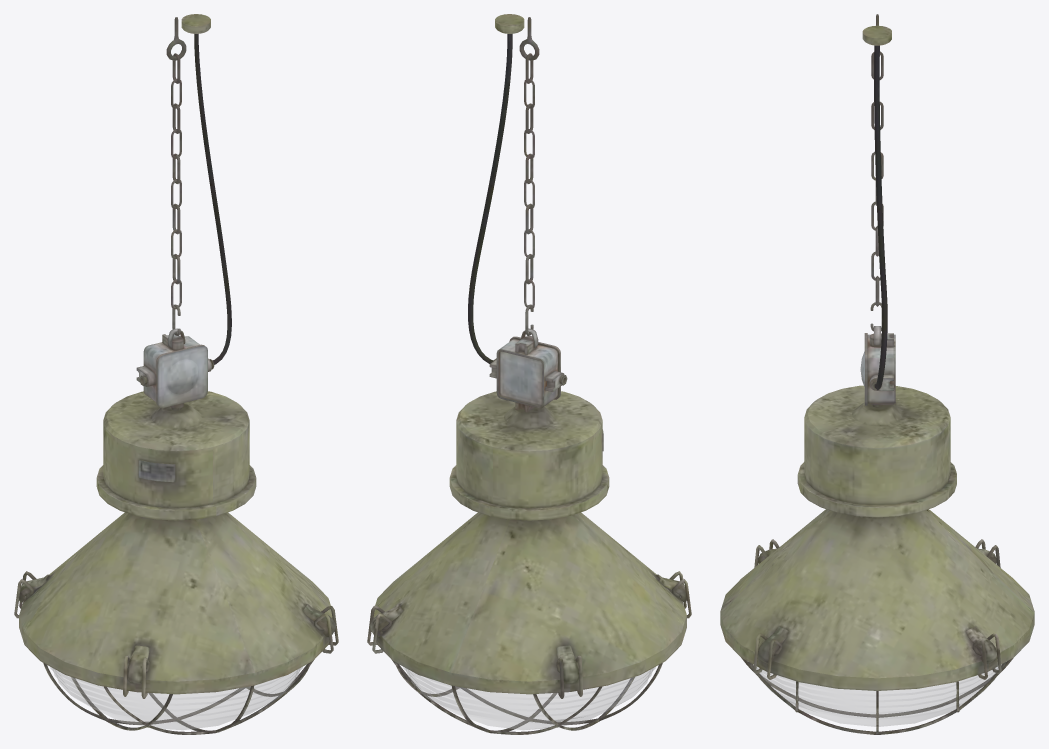
File: hanging_lamp.glb
The picture shows the model from 3 angles, left to right: view 1: azimuth 30°, elevation 25°; view 2: azimuth 150°, elevation 25°; view 3: azimuth 270°, elevation 25°; orthographic projection.
Parts seen in each view (by area): view 1: hanging_industrial_lamp; view 2: hanging_industrial_lamp; view 3: hanging_industrial_lamp.
Part boxes in pixels (<box>): hanging_industrial_lamp: <box>14,14,338,734</box>; hanging_industrial_lamp: <box>367,14,691,734</box>; hanging_industrial_lamp: <box>720,14,1034,734</box>.
Bounding box in the file's own units: 0.5496 × 1.36 × 0.5496.
Materials: 2 (1 with a texture image).
